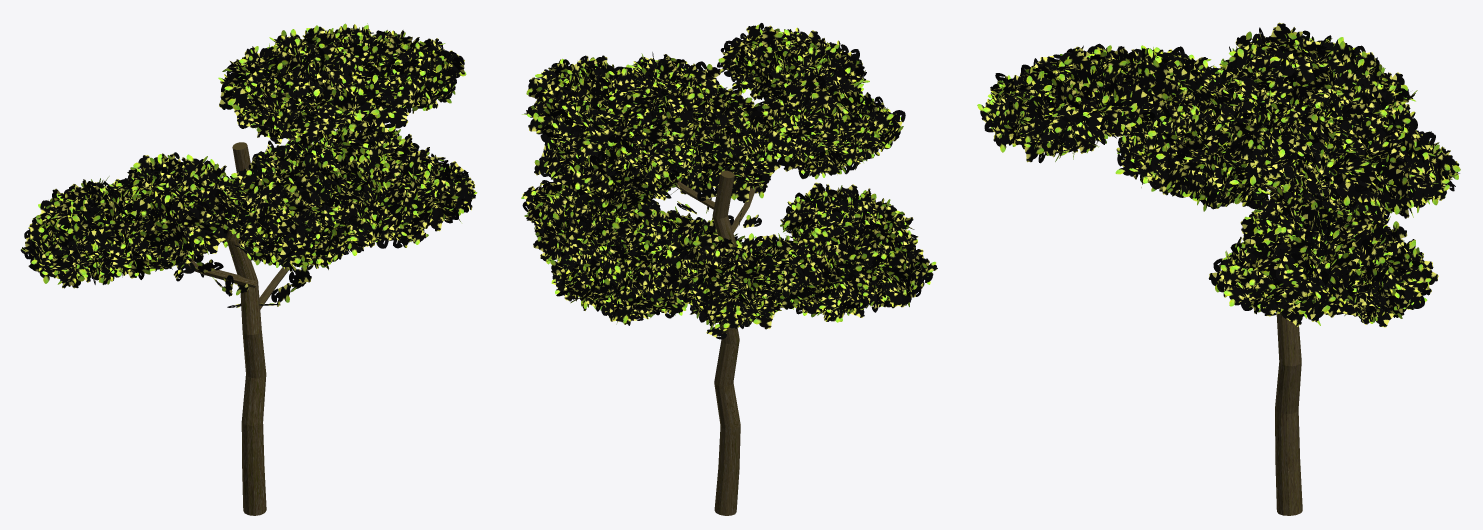
Rendered from acacia_flat_v01.fbx.
3 views of the same model, side by side, from view 1: azimuth 30°, elevation 25°; view 2: azimuth 150°, elevation 25°; view 3: azimuth 270°, elevation 25° (orthographic). The views are drawn at different scales.
Parts seen in each view (by area): view 1: acacia_flat_v01; view 2: acacia_flat_v01; view 3: acacia_flat_v01.
Boxes of the visible parts, x1,y1,x2,y2 form: acacia_flat_v01: (20, 23, 477, 515); acacia_flat_v01: (521, 23, 937, 515); acacia_flat_v01: (977, 22, 1460, 515).
Bounding box in the file's own units: 955 × 843 × 968.
2 materials, 2 textured.
